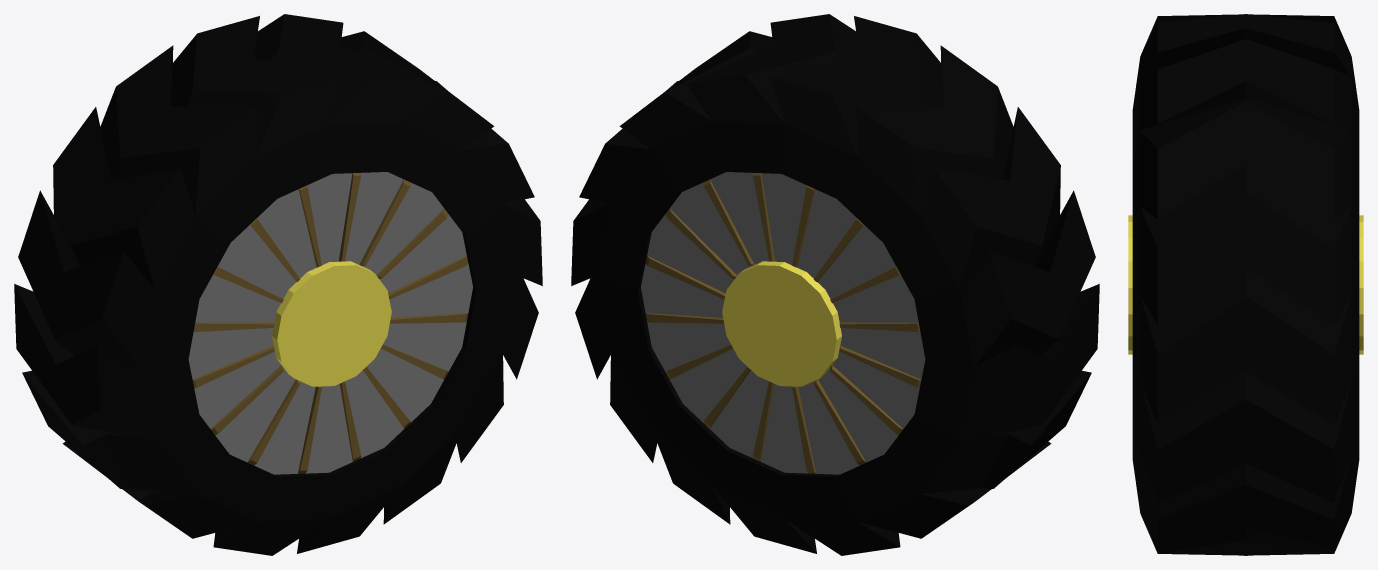
The model's file is SM_Tractor_Wheel_Big.fbx.
3 views of the same model, side by side, from view 1: azimuth 30°, elevation 25°; view 2: azimuth 150°, elevation 25°; view 3: azimuth 270°, elevation 25° (orthographic). The views are drawn at different scales.
Parts seen in each view (by area): view 1: Tractor Wheel Big; view 2: Tractor Wheel Big; view 3: Tractor Wheel Big.
Boxes of the visible parts, x1,y1,x2,y2 form: Tractor Wheel Big: (14, 14, 542, 555); Tractor Wheel Big: (571, 14, 1099, 555); Tractor Wheel Big: (1128, 14, 1363, 555).
Size of the model in its own units: 372 by 372 by 161.
